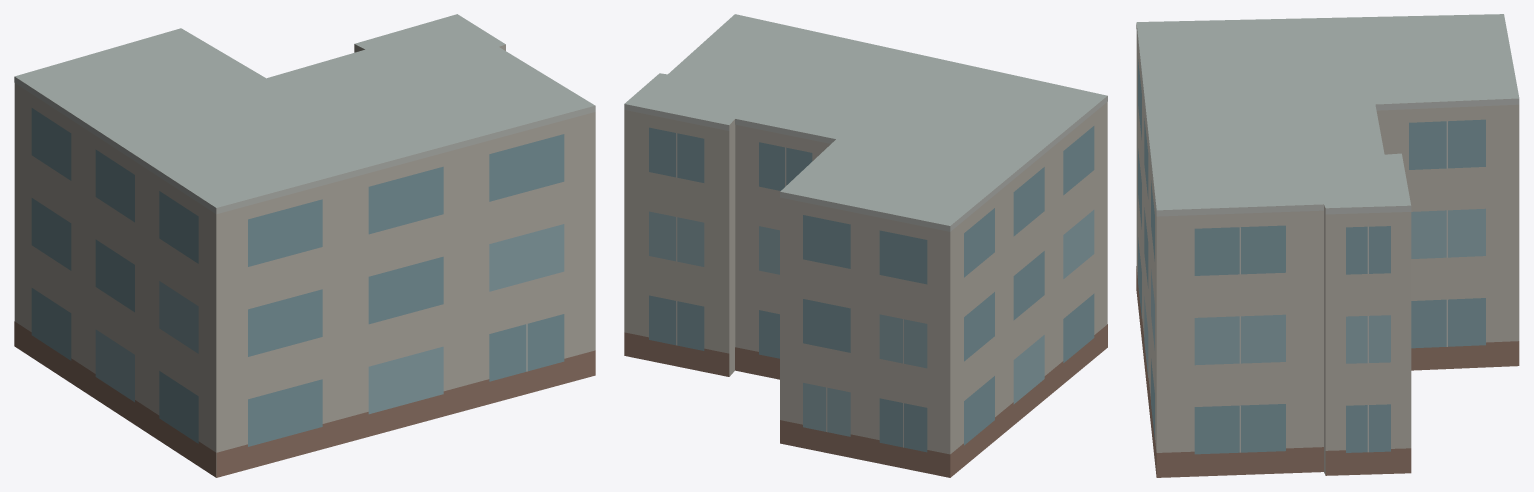
The model's file is survey-upis-32736541.glb.
3 views of the same model, side by side, from view 1: azimuth 30°, elevation 25°; view 2: azimuth 150°, elevation 25°; view 3: azimuth 270°, elevation 25° (orthographic). The views are drawn at different scales.
Visible parts, largest first — view 1: survey-upis-32736541.tmp; view 2: survey-upis-32736541.tmp; view 3: survey-upis-32736541.tmp.
Part boxes in pixels (bbox=[...]): survey-upis-32736541.tmp: bbox=[14, 14, 595, 477]; survey-upis-32736541.tmp: bbox=[624, 14, 1107, 477]; survey-upis-32736541.tmp: bbox=[1136, 14, 1519, 477].
Size of the model in its own units: 16.54 by 10.5 by 13.63.
